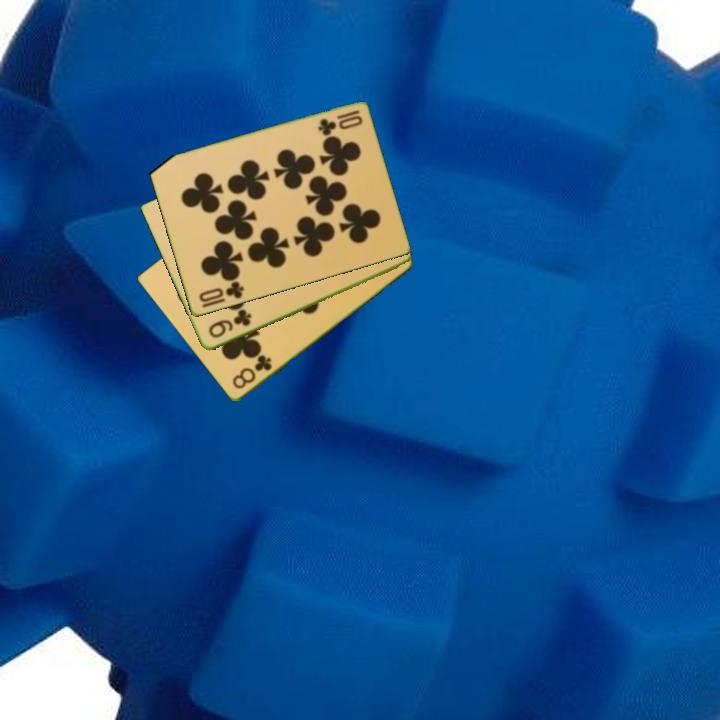10c: (314, 107, 362, 138), (195, 278, 247, 306)
8c: (229, 351, 275, 392)
9c: (205, 307, 254, 341)
